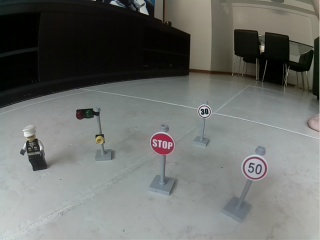Person: (19, 124, 49, 172)
Red Traffic Light: (75, 107, 115, 163)
Speed Limit 30: (197, 105, 212, 119)
Speed Limit 50: (241, 155, 268, 181)
Stop Sign: (150, 132, 175, 155)
